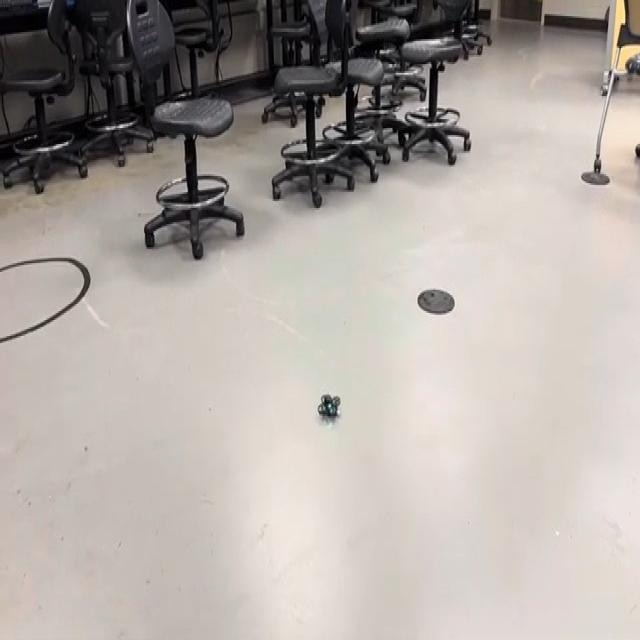drone: (312, 382, 346, 431)
